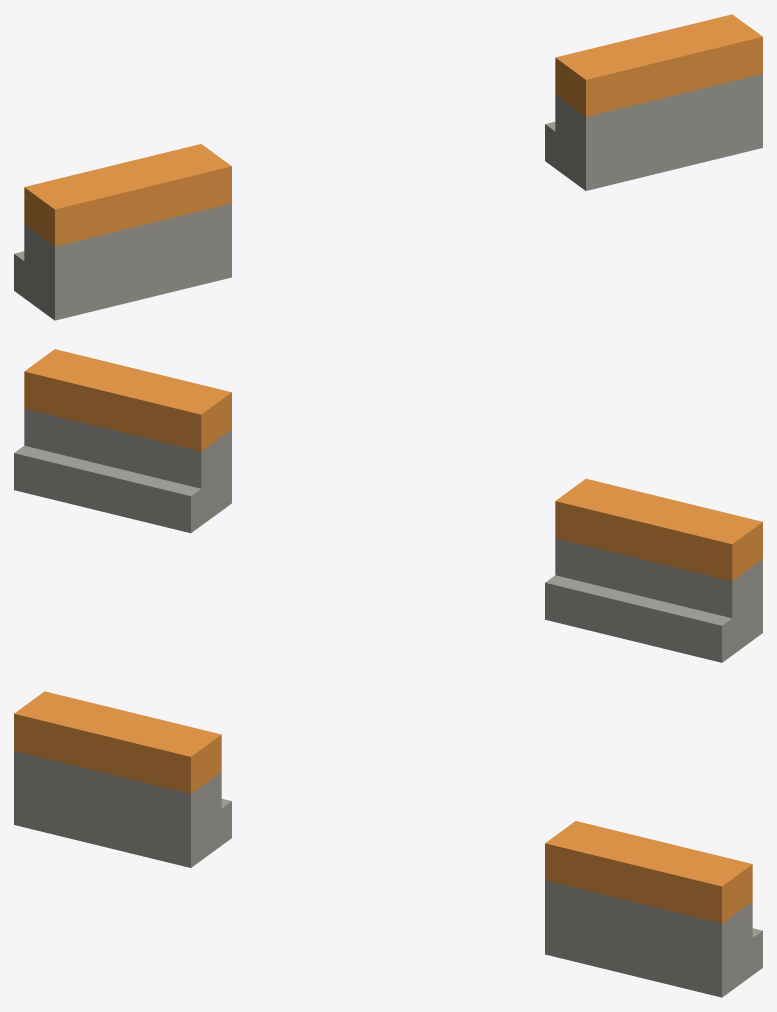
File: lib_entrance_low.glb
3 renders of one model, top to bottom at view 1: azimuth 30°, elevation 25°; view 2: azimuth 150°, elevation 25°; view 3: azimuth 330°, elevation 25°, orthographic.
Parts seen in each view (by area): view 1: wall; view 2: wall; view 3: wall.
Boxes of the visible parts, x1,y1,x2,y2 form: wall: (14,14,762,320); wall: (14,349,762,662); wall: (14,691,762,997).
Size of the model in its own units: 4 by 0.6 by 0.4.
